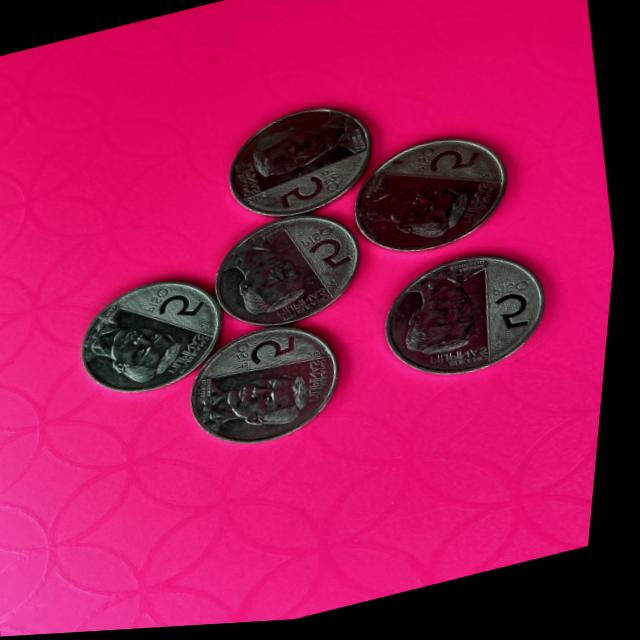5_New_Front: (486, 276, 553, 350), (273, 168, 349, 223), (409, 137, 487, 189), (301, 223, 368, 281), (230, 331, 306, 379), (145, 281, 216, 327)
